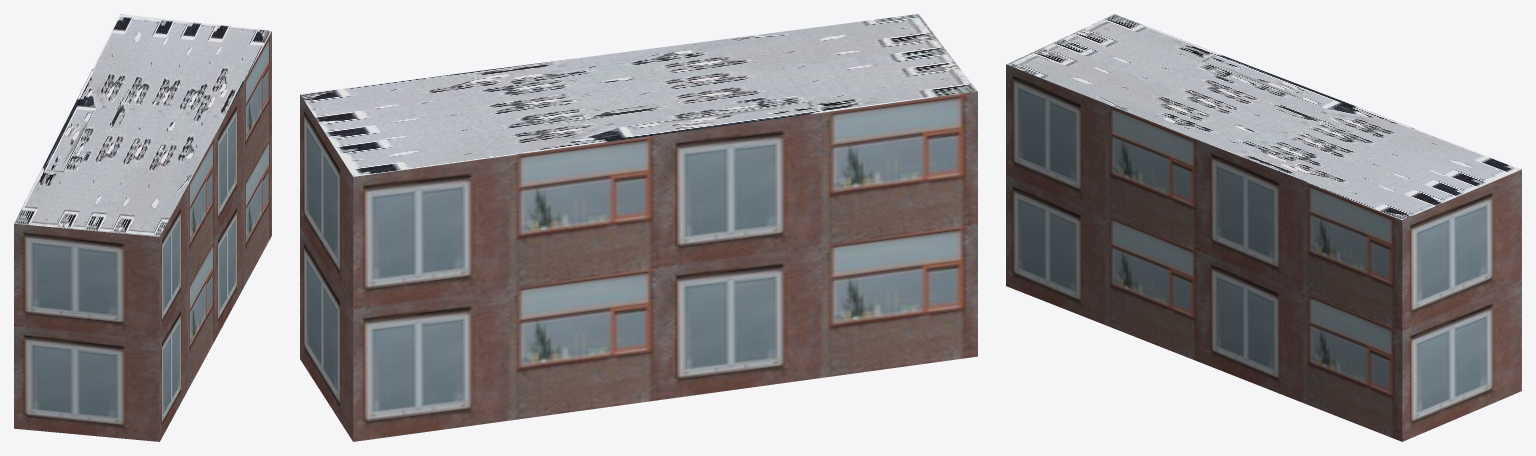
The model's file is ResTex__1827.fbx.
The picture shows the model from 3 angles, left to right: view 1: azimuth 30°, elevation 25°; view 2: azimuth 150°, elevation 25°; view 3: azimuth 270°, elevation 25°; orthographic projection. The views are drawn at different scales.
Visible parts, largest first — view 1: CityEngineMaterial_19_m, CityEngineMaterial_15_m; view 2: CityEngineMaterial_19_m, CityEngineMaterial_15_m; view 3: CityEngineMaterial_19_m, CityEngineMaterial_15_m.
Boxes of the visible parts, x1=… form: CityEngineMaterial_19_m: x1=14, y1=31, x2=271, y2=441; CityEngineMaterial_15_m: x1=14, y1=14, x2=271, y2=236; CityEngineMaterial_19_m: x1=300, y1=91, x2=977, y2=441; CityEngineMaterial_15_m: x1=300, y1=14, x2=977, y2=176; CityEngineMaterial_19_m: x1=1006, y1=64, x2=1521, y2=441; CityEngineMaterial_15_m: x1=1006, y1=14, x2=1521, y2=220.
Bounding box in the file's own units: 11.98 × 6 × 12.65.
Materials: 2 (2 with a texture image).
